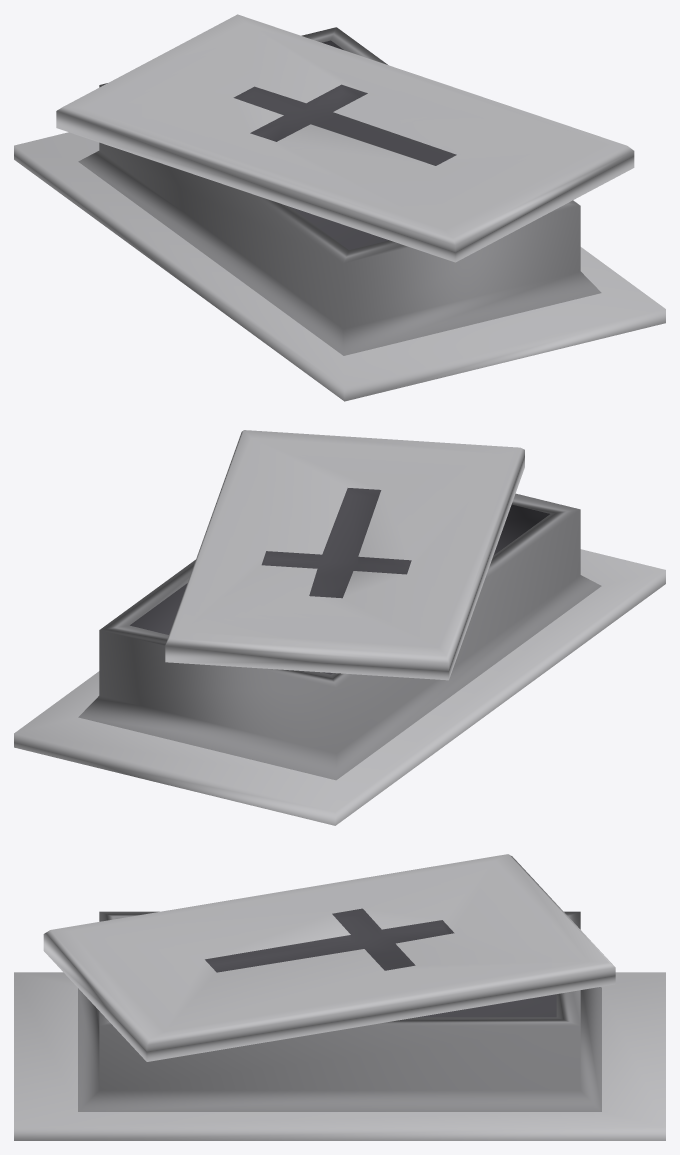
File: 7fea13ce-4025-479a-bcd7-6c5942706fc5.glb
3 views of the same model, one above another, from view 1: azimuth 30°, elevation 25°; view 2: azimuth 150°, elevation 25°; view 3: azimuth 270°, elevation 25° (orthographic).
Visible parts, largest first — view 1: Sarcophagus01; view 2: Sarcophagus01; view 3: Sarcophagus01.
Part boxes in pixels (x1,y1,x2,y2): Sarcophagus01: [14, 14, 665, 401]; Sarcophagus01: [14, 430, 665, 825]; Sarcophagus01: [14, 854, 665, 1140].
Size of what is drawn, in the model's own units: 1.46 by 0.4214 by 2.12.
Materials: 1 (1 with a texture image).
